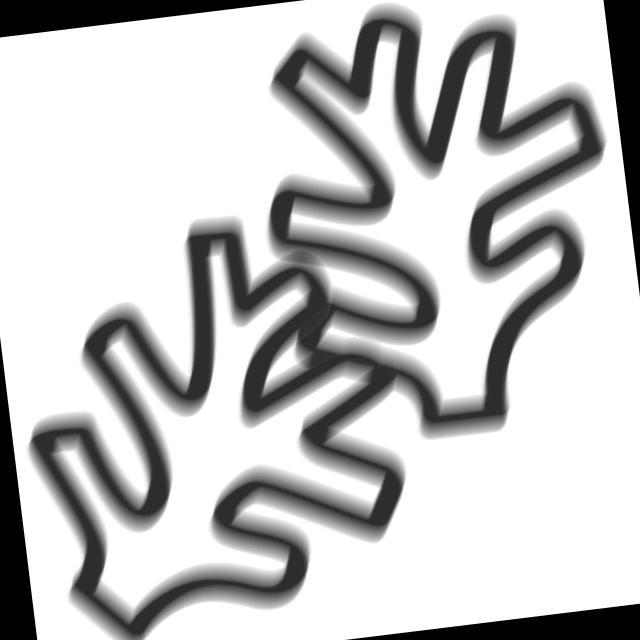coral: (1, 191, 443, 640), (226, 1, 640, 471)
